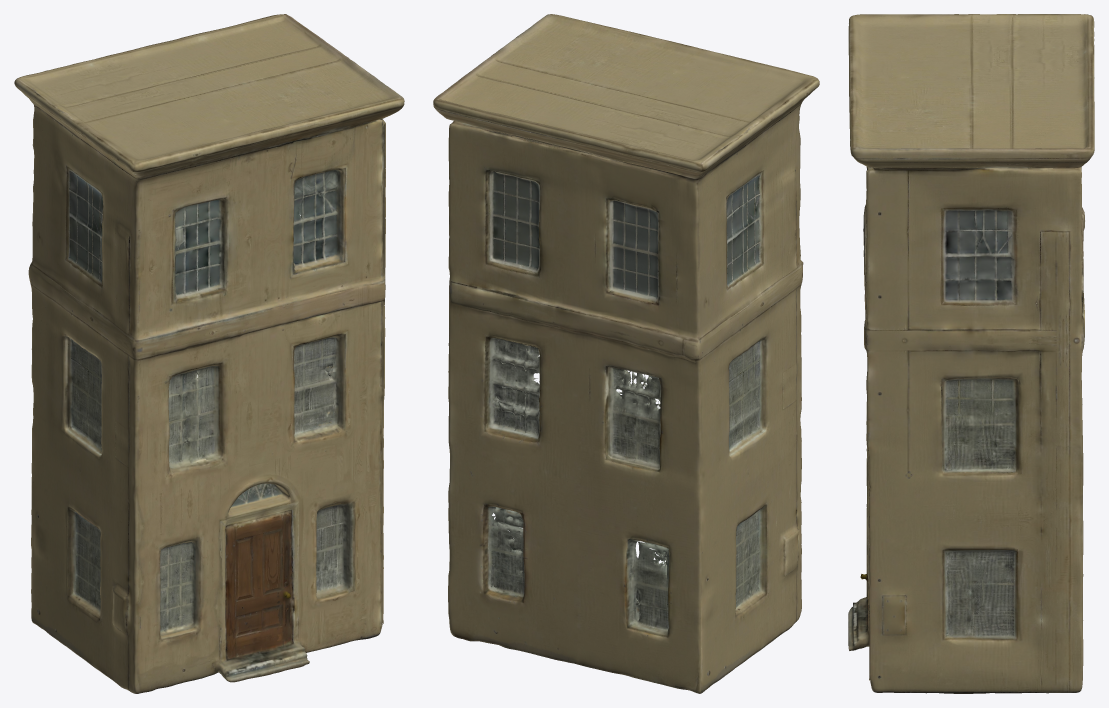
File: arena-townhouse.glb
The picture shows the model from 3 angles, left to right: view 1: azimuth 30°, elevation 25°; view 2: azimuth 150°, elevation 25°; view 3: azimuth 270°, elevation 25°; orthographic projection. The views are drawn at different scales.
Parts seen in each view (by area): view 1: tripo_node_5e2ead0e; view 2: tripo_node_5e2ead0e; view 3: tripo_node_5e2ead0e.
Boxes of the visible parts, bbox=[...] form: tripo_node_5e2ead0e: bbox=[14, 14, 404, 693]; tripo_node_5e2ead0e: bbox=[433, 14, 819, 693]; tripo_node_5e2ead0e: bbox=[848, 14, 1094, 693].
Size of the model in its own units: 0.5291 by 1 by 0.4038.
1 material, 1 textured.
